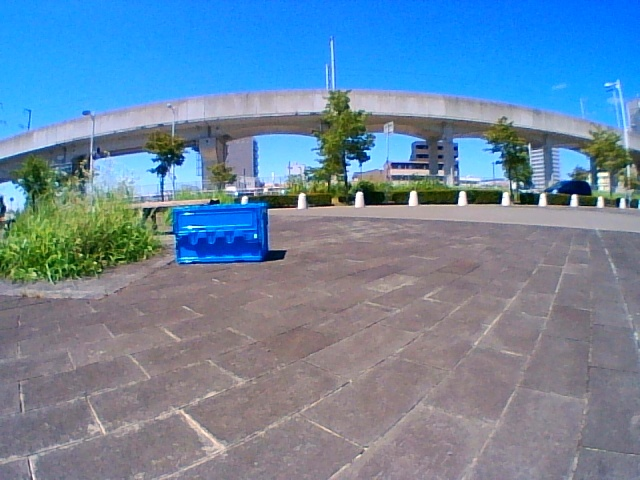blue_box: (175, 208, 265, 260)
